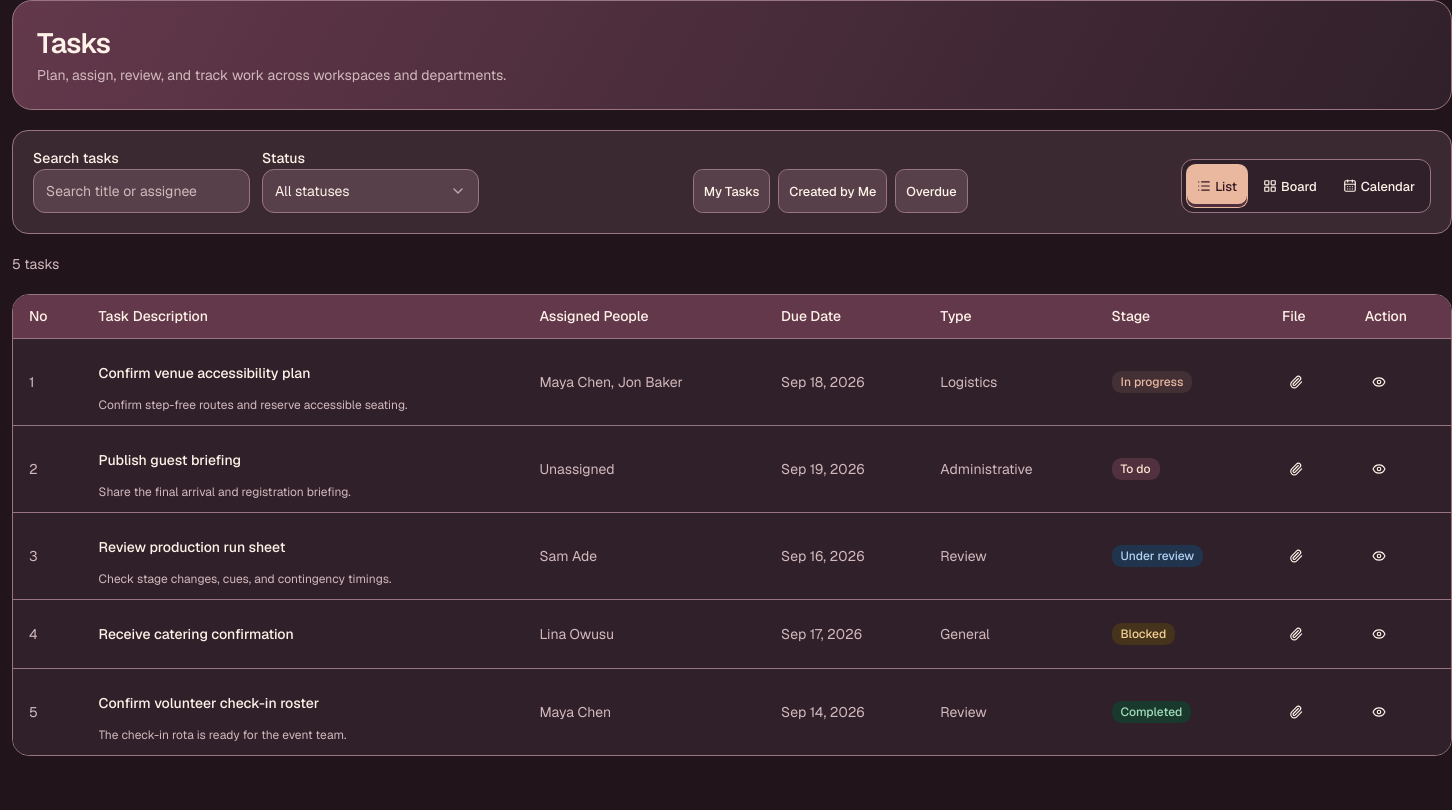
Scenario: TaskWorkspace › filters tasks and gives a clear empty-state recovery message
This screenshot has width=1452, height=810.
In the field labelled "Search tasks": (142, 191) x1=33 y1=169 x2=250 y2=213, type "not-a-task"
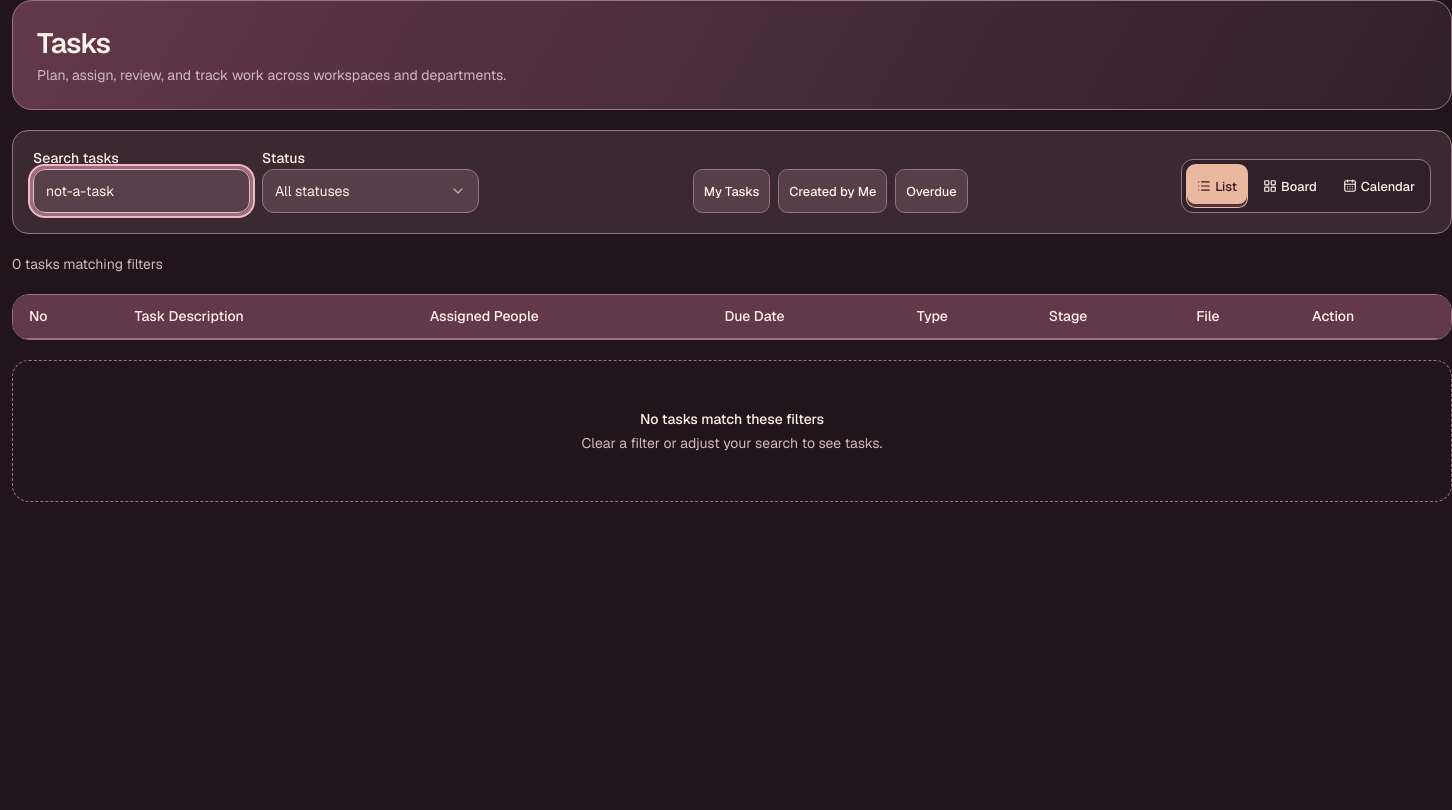
Now the text "No tasks match these filters" is shown, box x1=640 y1=410 x2=824 y2=428
Now the text "Clear a filter or adjust your search to see tasks." is shown, box x1=582 y1=434 x2=882 y2=452
